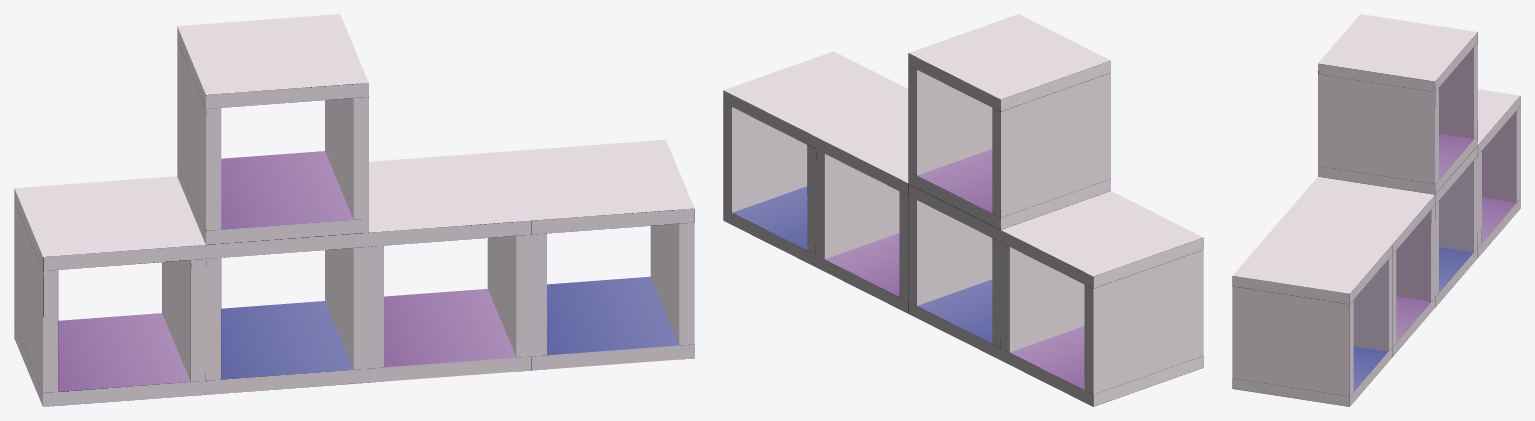
3 views of the same model, side by side, from view 1: azimuth 30°, elevation 25°; view 2: azimuth 150°, elevation 25°; view 3: azimuth 270°, elevation 25° (orthographic). The views are drawn at different scales.
Parts seen in each view (by area): view 1: Joint_0_Object_2, Joint_0_Object_1, Joint_0_Object_0, Joint_0_Object_4, Joint_0_Object_3; view 2: Joint_0_Object_1, Joint_0_Object_2, Joint_0_Object_0, Joint_0_Object_4, Joint_0_Object_3; view 3: Joint_0_Object_0, Joint_0_Object_1, Joint_0_Object_4, Joint_0_Object_2, Joint_0_Object_3.
Boxes of the visible parts, bbox=[...] form: Joint_0_Object_2: bbox=[14, 176, 205, 406]; Joint_0_Object_1: bbox=[177, 14, 368, 244]; Joint_0_Object_0: bbox=[503, 139, 694, 370]; Joint_0_Object_4: bbox=[369, 152, 531, 382]; Joint_0_Object_3: bbox=[206, 232, 368, 394]; Joint_0_Object_1: bbox=[908, 14, 1110, 229]; Joint_0_Object_2: bbox=[1001, 191, 1203, 406]; Joint_0_Object_0: bbox=[723, 51, 908, 266]; Joint_0_Object_4: bbox=[816, 104, 908, 313]; Joint_0_Object_3: bbox=[908, 183, 1000, 360]; Joint_0_Object_0: bbox=[1232, 226, 1392, 406]; Joint_0_Object_1: bbox=[1318, 14, 1477, 194]; Joint_0_Object_4: bbox=[1275, 176, 1434, 356]; Joint_0_Object_2: bbox=[1477, 89, 1520, 257]; Joint_0_Object_3: bbox=[1435, 146, 1477, 307].
Size of the model in its own units: 3369 by 1643 by 1896.
Materials: 2 (2 with a texture image).
